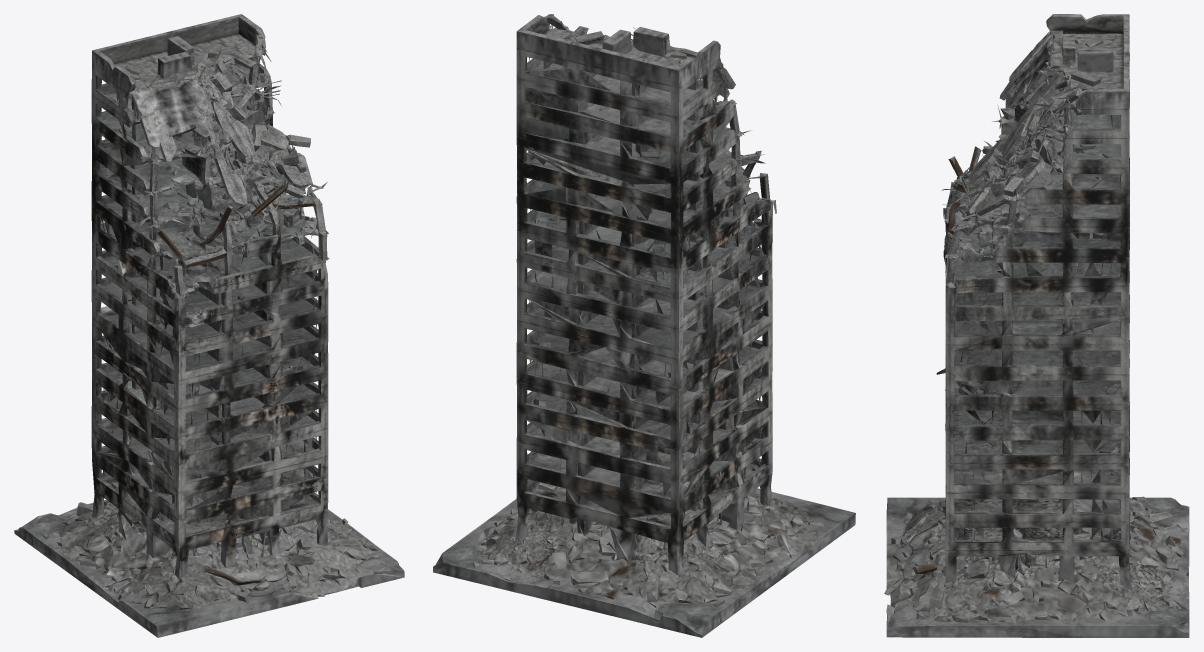
File: city_tower_a.glb
The picture shows the model from 3 angles, left to right: view 1: azimuth 30°, elevation 25°; view 2: azimuth 150°, elevation 25°; view 3: azimuth 270°, elevation 25°; orthographic projection. The views are drawn at different scales.
Parts seen in each view (by area): view 1: Mesh_0; view 2: Mesh_0; view 3: Mesh_0.
Part boxes in pixels (x1=…): Mesh_0: x1=14, y1=14, x2=404, y2=637; Mesh_0: x1=433, y1=14, x2=855, y2=637; Mesh_0: x1=884, y1=14, x2=1189, y2=637.
Bounding box in the file's own units: 1 × 1.9 × 1.01.
Materials: 1 (1 with a texture image).
